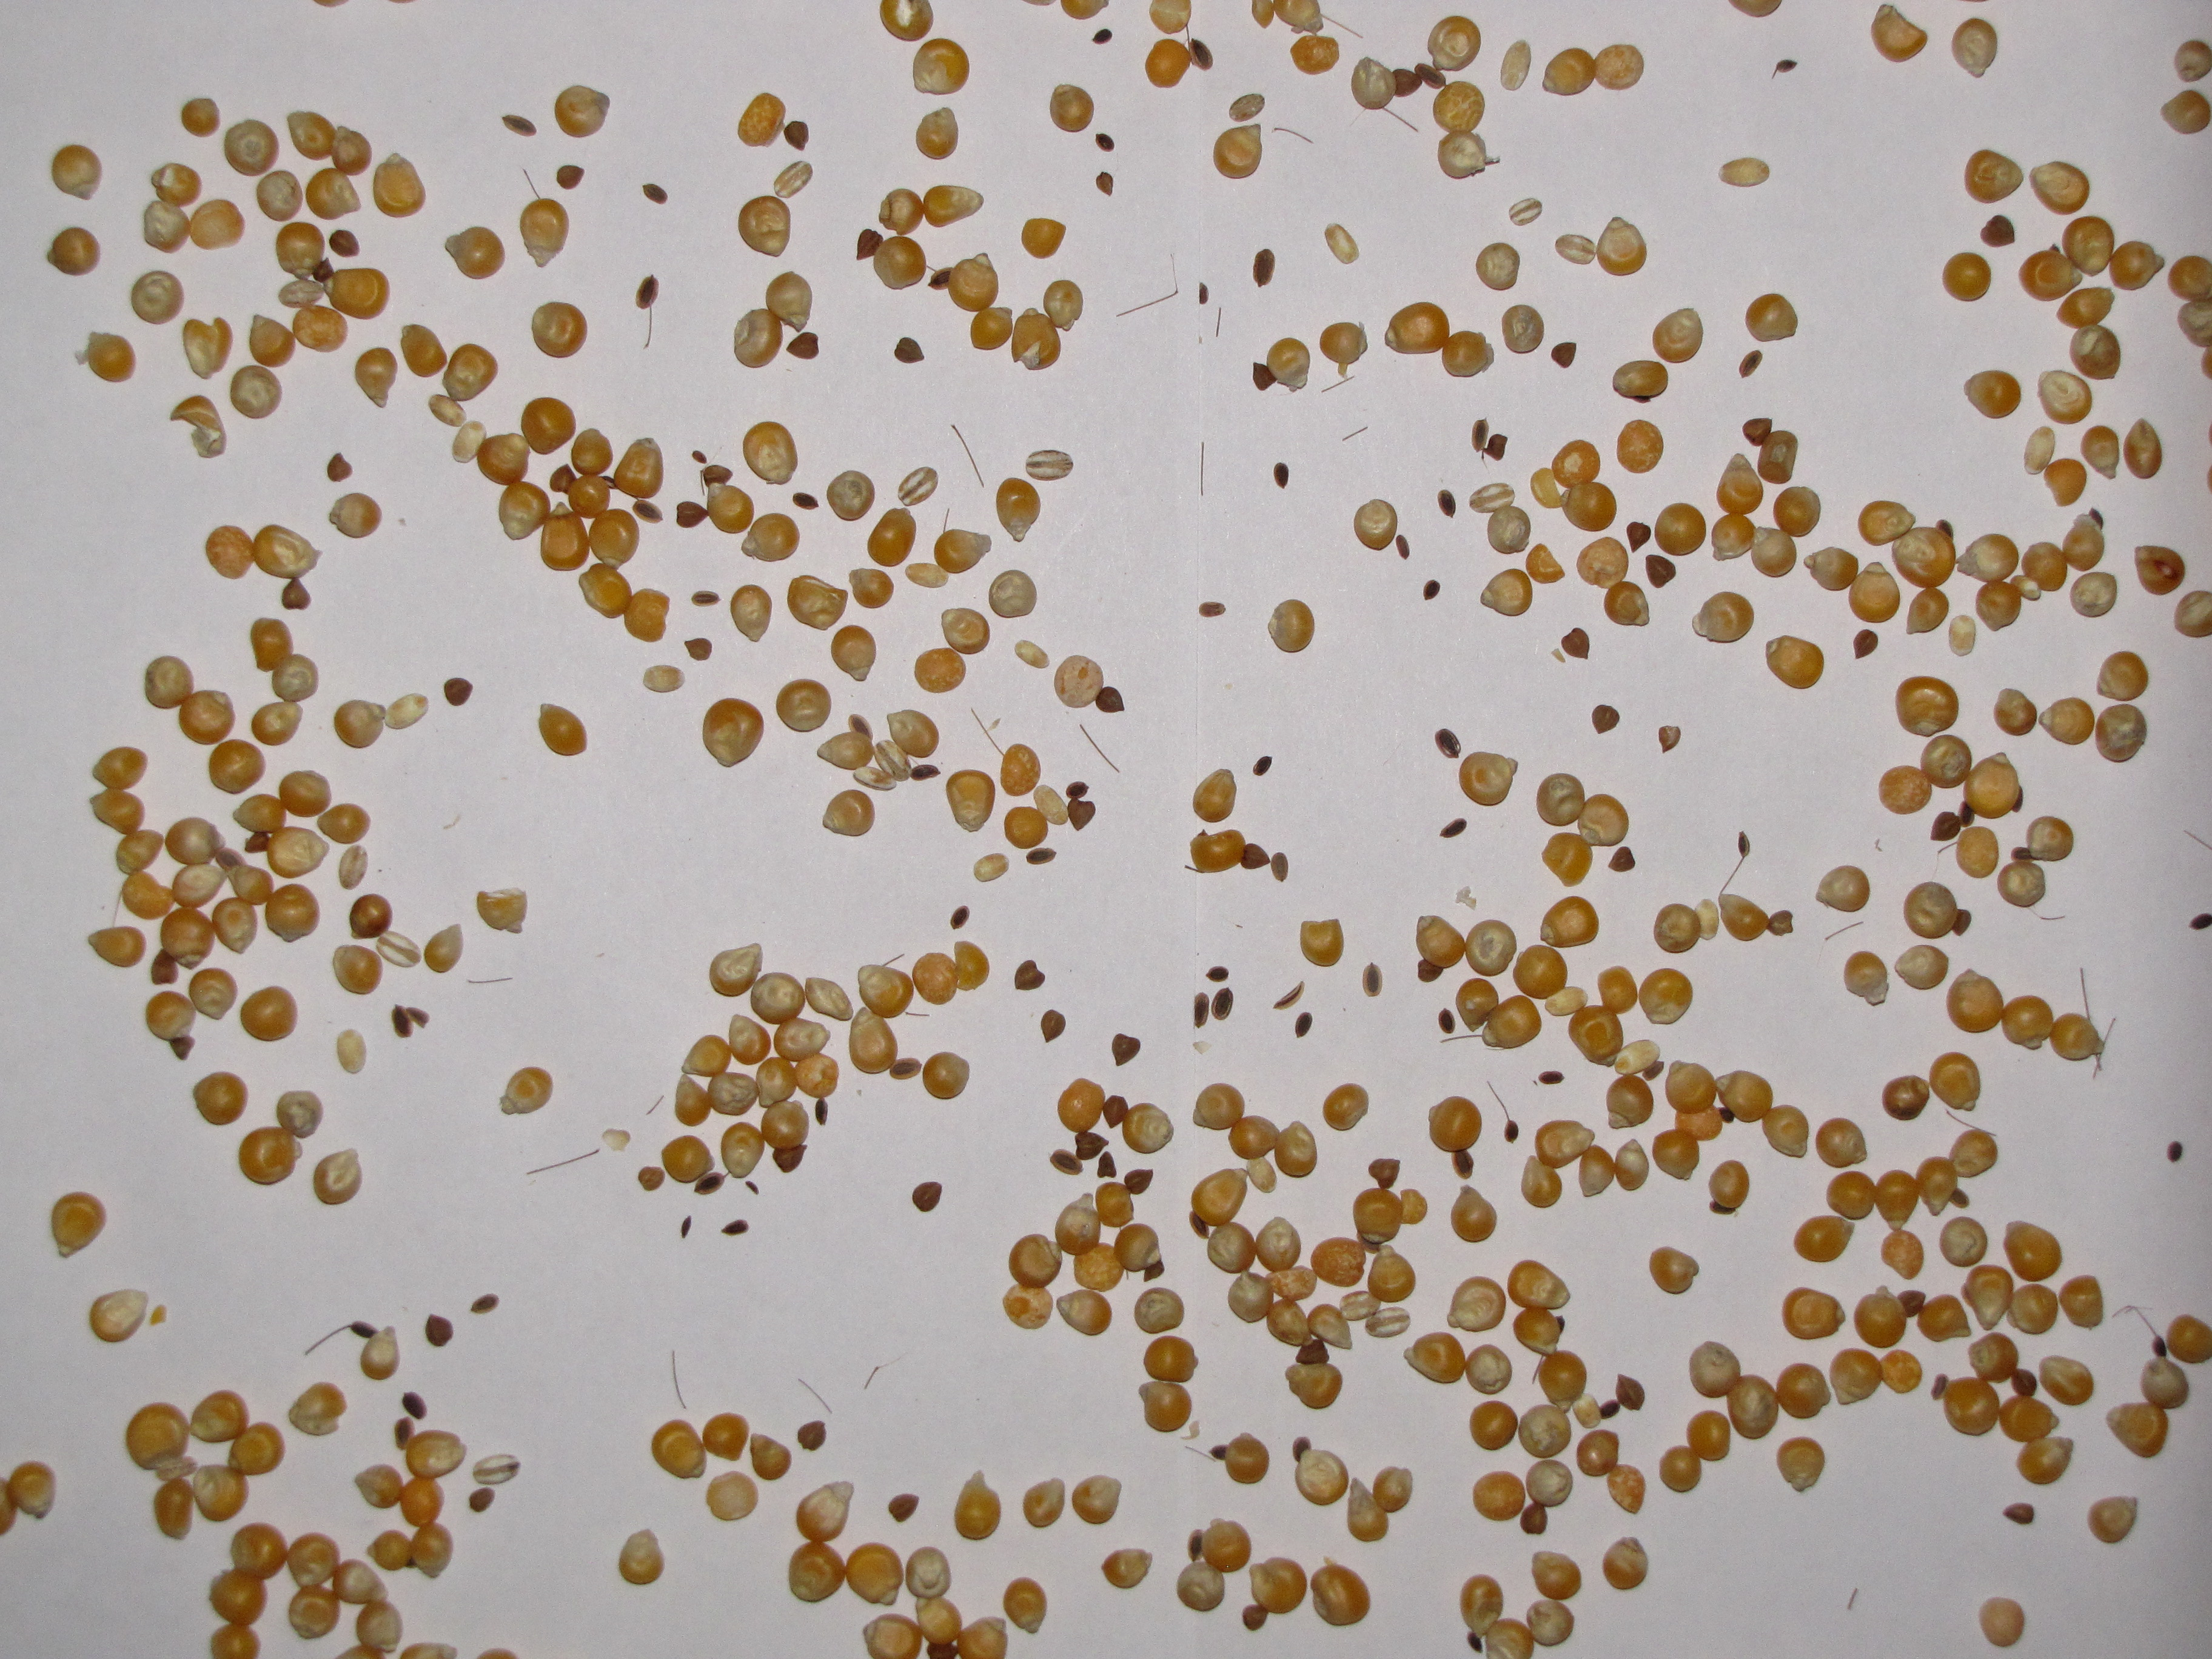mais: (970, 709, 1042, 796), (1296, 1253, 1376, 1317), (1252, 336, 1310, 392), (1211, 1432, 1270, 1485), (740, 512, 799, 563), (996, 477, 1042, 542), (709, 943, 763, 997), (2038, 1354, 2094, 1406), (554, 85, 610, 138), (867, 507, 916, 566), (1951, 17, 1998, 78), (230, 364, 282, 418), (1655, 502, 1707, 556), (1212, 124, 1263, 179), (1653, 307, 1703, 362), (2038, 697, 2095, 746), (1963, 369, 2020, 418), (1815, 1117, 1867, 1169), (1472, 1471, 1526, 1521), (1451, 1185, 1498, 1243), (618, 1528, 665, 1586), (331, 945, 383, 995), (2097, 650, 2148, 702), (47, 227, 101, 275), (1745, 293, 1799, 342), (1843, 951, 1890, 1007), (1815, 866, 1871, 913), (1143, 1337, 1198, 1384), (831, 624, 876, 681), (1071, 1474, 1122, 1525), (1531, 1551, 1581, 1601), (355, 347, 397, 408), (1480, 568, 1533, 617), (538, 704, 587, 756), (401, 324, 448, 378), (1602, 1537, 1649, 1591), (1268, 599, 1315, 653), (1616, 420, 1663, 474), (730, 584, 773, 641), (1649, 1246, 1700, 1295), (988, 570, 1038, 619), (1939, 1216, 1987, 1267), (822, 789, 874, 836), (1895, 945, 1949, 990), (1942, 253, 1991, 301), (941, 608, 991, 655), (827, 471, 874, 521), (914, 648, 967, 694), (1193, 769, 1237, 823), (2123, 418, 2161, 479), (1613, 361, 1669, 403), (1322, 1082, 1369, 1131), (2069, 572, 2118, 619), (923, 1051, 970, 1100), (1134, 1288, 1184, 1333), (1353, 498, 1397, 551), (1475, 242, 1521, 291), (1299, 918, 1345, 967), (916, 108, 958, 160), (2080, 425, 2120, 479), (1709, 1161, 1749, 1215), (749, 1432, 792, 1481), (1501, 305, 1545, 354), (1050, 84, 1094, 132), (1994, 688, 2038, 735), (350, 894, 394, 939), (953, 425, 984, 488), (423, 924, 463, 972), (1021, 218, 1066, 260), (1080, 725, 1120, 772), (848, 568, 895, 608), (528, 1150, 599, 1175), (636, 275, 658, 347), (1526, 544, 1566, 584), (1500, 40, 1531, 91), (773, 160, 813, 199), (1472, 418, 1508, 460), (1066, 781, 1096, 831), (1026, 450, 1073, 481), (643, 664, 685, 694), (1949, 615, 1977, 657), (1980, 214, 2015, 247), (1644, 554, 1676, 589), (1014, 640, 1050, 669), (1228, 94, 1264, 122), (974, 854, 1010, 882), (1014, 960, 1045, 992), (1561, 627, 1590, 660), (1111, 1033, 1141, 1066), (798, 1420, 827, 1452), (913, 1182, 942, 1213), (786, 331, 819, 359), (425, 1314, 453, 1347), (894, 336, 925, 364), (888, 1493, 920, 1521), (1252, 249, 1275, 288), (1040, 1009, 1066, 1042), (1592, 704, 1620, 734), (444, 678, 474, 706), (1211, 986, 1233, 1021), (1853, 629, 1879, 659), (1435, 728, 1461, 758), (1627, 521, 1651, 552), (784, 120, 808, 152), (1608, 847, 1635, 873), (502, 115, 536, 136), (1362, 962, 1383, 997), (556, 166, 585, 190), (1738, 350, 1763, 378), (1825, 922, 1864, 939), (1193, 992, 1211, 1028), (1552, 342, 1576, 368), (1658, 725, 1681, 753), (685, 638, 712, 660), (1273, 127, 1312, 143), (1439, 817, 1467, 838), (1437, 490, 1456, 518), (1097, 1150, 1116, 1178), (1026, 847, 1055, 864), (643, 183, 667, 204), (1773, 59, 1797, 78), (951, 904, 970, 929), (691, 591, 721, 606), (686, 1073, 712, 1091), (1296, 1012, 1313, 1039), (792, 493, 819, 511), (721, 1220, 749, 1236), (1198, 601, 1226, 617), (1096, 171, 1113, 195), (1439, 1009, 1456, 1033), (1273, 462, 1289, 488), (1205, 965, 1228, 983), (1252, 756, 1271, 775), (646, 1094, 664, 1115), (1538, 1070, 1564, 1084), (1343, 427, 1367, 441), (1395, 535, 1409, 559), (1096, 134, 1115, 152), (1423, 580, 1440, 599), (864, 1366, 878, 1389), (1092, 28, 1111, 44), (681, 1216, 691, 1239), (1198, 282, 1209, 305), (745, 1180, 759, 1194), (1552, 648, 1566, 662), (691, 451, 707, 464), (1555, 481, 1568, 495), (1273, 1293, 1282, 1302)
